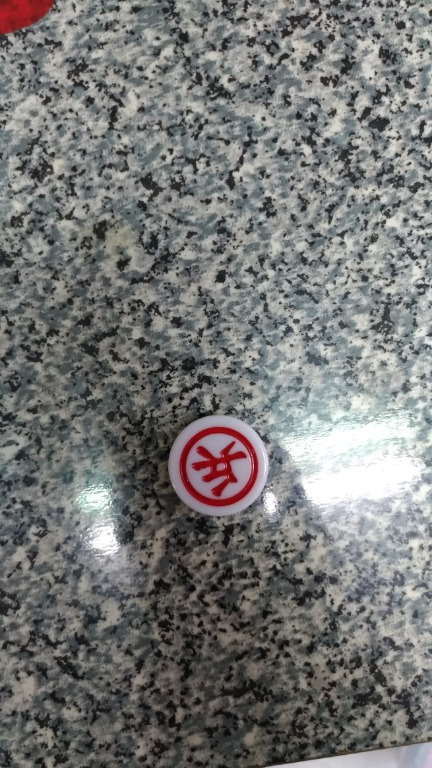r-pawn: (165, 414, 276, 525)
